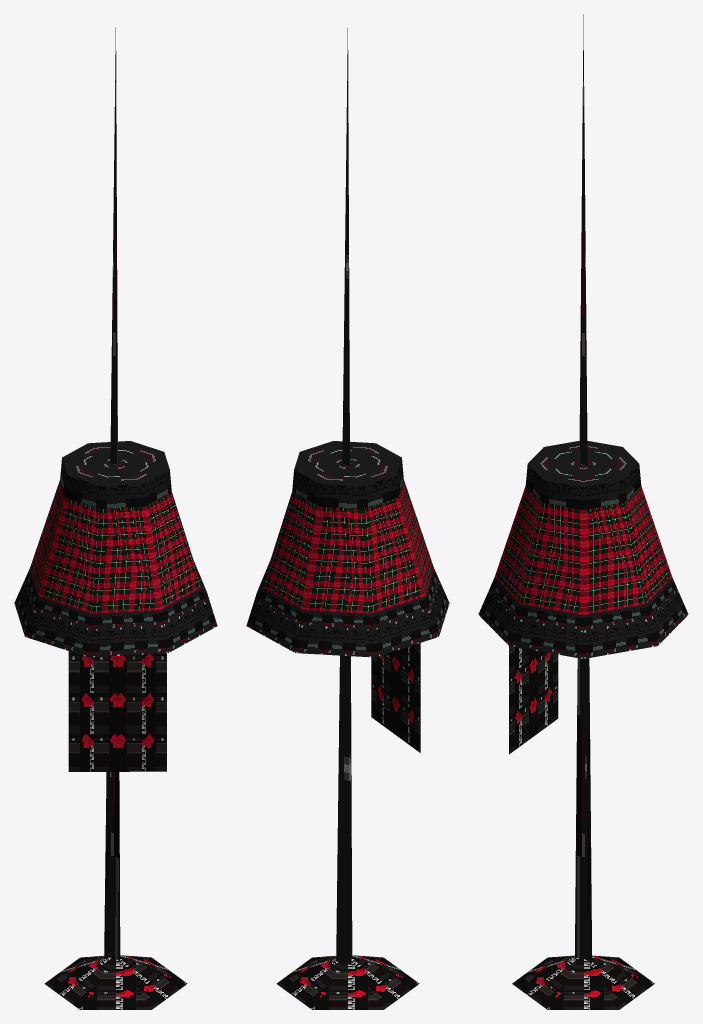
Rendered from 3836kg3_ser17.gltf.
3 views of the same model, side by side, from view 1: azimuth 30°, elevation 25°; view 2: azimuth 150°, elevation 25°; view 3: azimuth 270°, elevation 25° (orthographic).
Parts seen in each view (by area): view 1: 3836kg3_ser17; view 2: 3836kg3_ser17; view 3: 3836kg3_ser17.
Boxes of the visible parts, left/top/right/bottom form: 3836kg3_ser17: left=14, top=27, right=217, bottom=1009; 3836kg3_ser17: left=246, top=27, right=449, bottom=1009; 3836kg3_ser17: left=478, top=14, right=688, bottom=1009.
Size of the model in its own units: 0.7178 by 3.65 by 0.7178.
4 materials, 4 textured.
